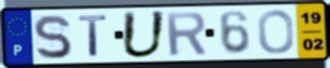6: (217, 9, 252, 56)
O: (256, 8, 296, 55)
R: (164, 11, 209, 58)
S: (31, 13, 74, 61)
T: (77, 14, 110, 58)
U: (120, 10, 169, 60)
